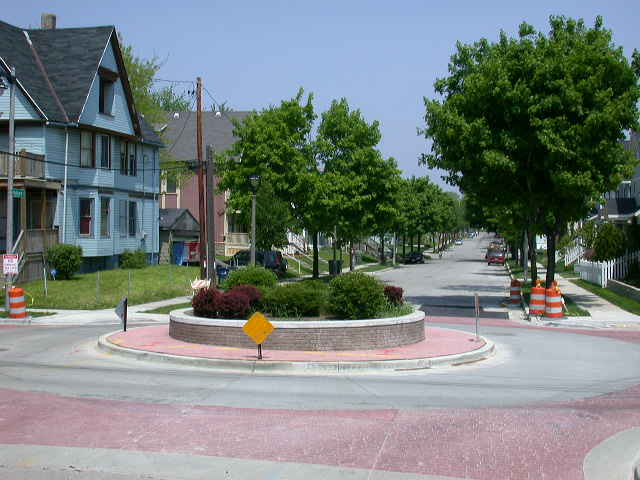plants: (442, 29, 631, 271), (231, 116, 394, 265), (399, 179, 443, 258)
